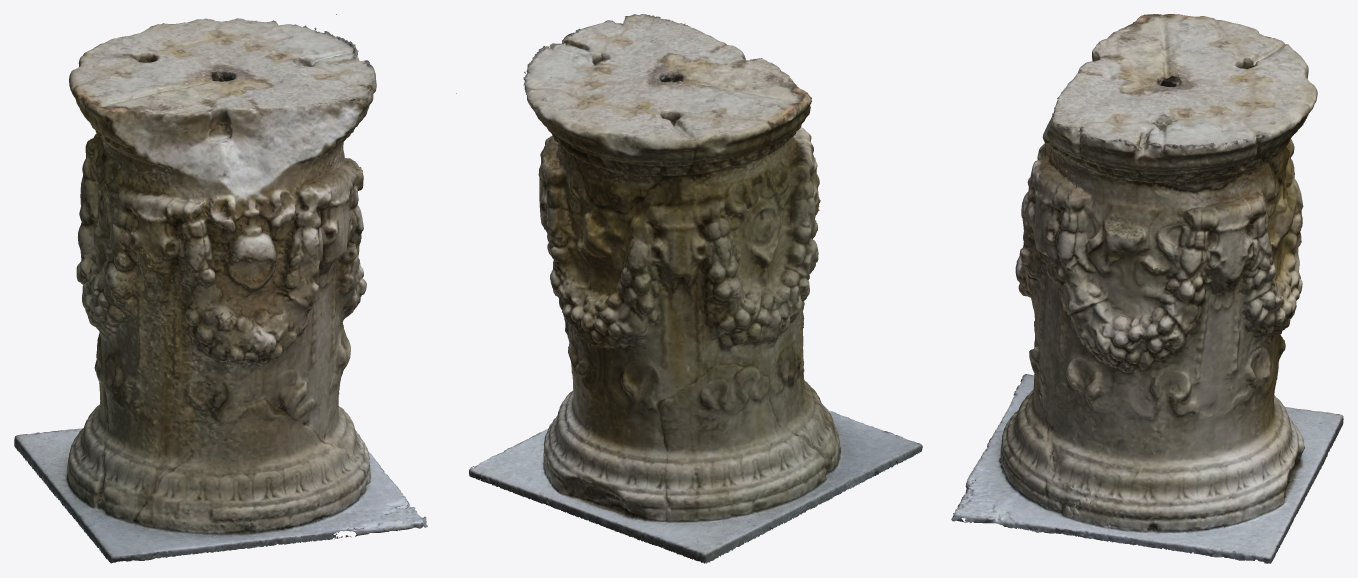
The model's file is preview.glb.
3 views of the same model, side by side, from view 1: azimuth 30°, elevation 25°; view 2: azimuth 150°, elevation 25°; view 3: azimuth 270°, elevation 25° (orthographic). The views are drawn at different scales.
Visible parts, largest first — view 1: Object_2; view 2: Object_2; view 3: Object_2.
Part boxes in pixels (left/top/right/bottom): Object_2: left=14, top=14, right=427, bottom=563; Object_2: left=456, top=14, right=922, bottom=563; Object_2: left=951, top=14, right=1343, bottom=563.
Size of the model in its own units: 8.83 by 9.95 by 8.57.
1 material, 1 textured.
